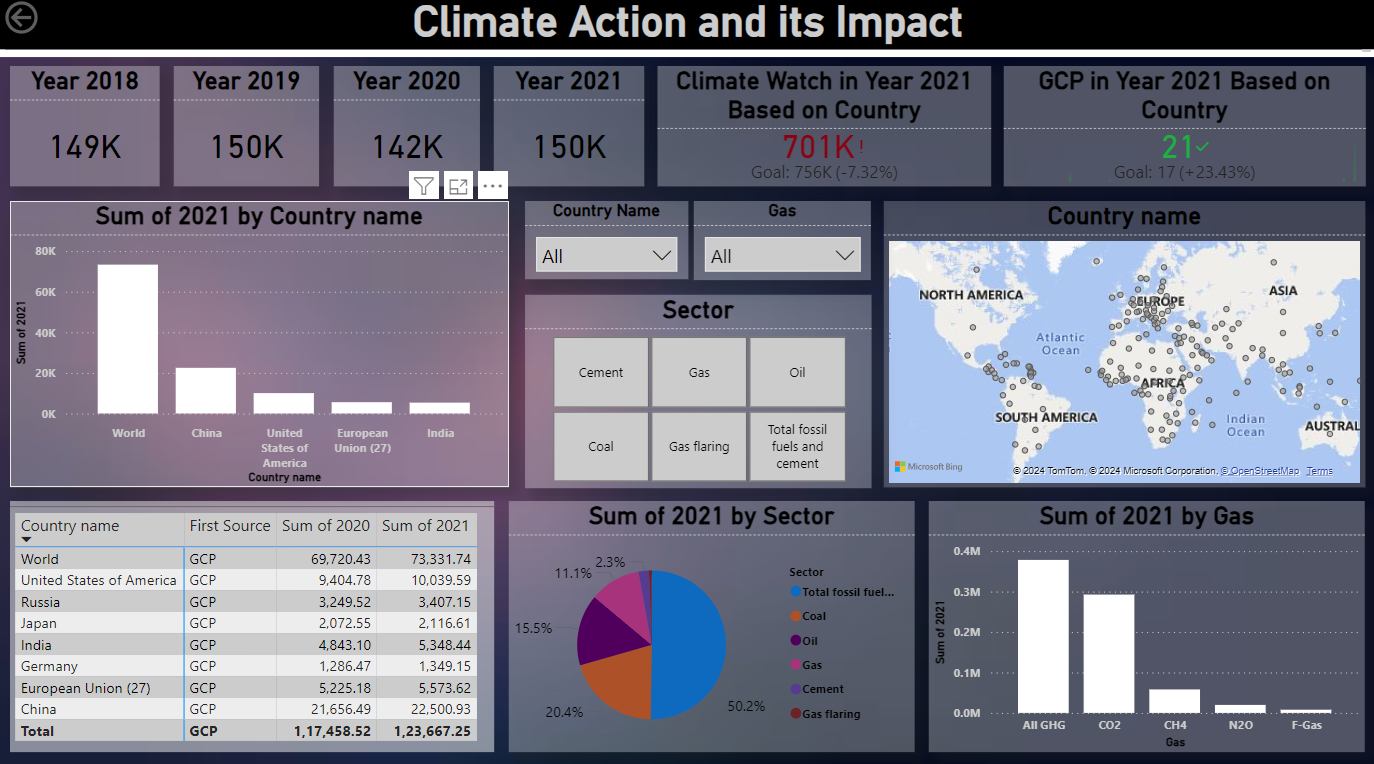

The dashboard page shown, as its layout file describes it:
{"tool":"powerbi","page":{"name":"Page 1","canvas":[1280,720],"ordinal":0},"visuals":[{"type":"card","title":"Year 2018","fields":{"Values":["Sum(GCP.2018)"]},"box":[9.4,65.5,139.3,112.2],"z":0},{"type":"card","title":"Year 2019","fields":{"Values":["Sum(GCP.2019)"]},"box":[162.1,65.5,135.1,112.2],"z":1000},{"type":"card","title":"Year 2020","fields":{"Values":["Sum(GCP.2020)"]},"box":[310.7,65.5,136.1,112.2],"z":2000},{"type":"card","title":"Year 2021","fields":{"Values":["Sum(GCP.2021)"]},"box":[459.4,65.5,140.3,112.2],"z":3000},{"type":"map","fields":{"Category":["GCP.Country name"]},"box":[822.1,191.2,447.9,266.1],"z":4000},{"type":"slicer","title":"Country Name","fields":{"Values":["GCP.Country name"]},"box":[488.5,190.2,151.7,72.7],"z":5000},{"type":"slicer","title":"Sector","fields":{"Values":["GCP.Sector"]},"box":[488.5,277.5,322.2,179.8],"z":6000},{"type":"textbox","title":"Climate  Action and its Impact","box":[0,0,1280.2,57],"z":7000},{"type":"pieChart","fields":{"Category":["GCP.Sector"],"Y":["Sum(GCP.2021)"]},"box":[472.9,469.7,377.3,233.8],"z":8000},{"type":"pivotTable","fields":{"Rows":["GCP.Country name"],"Values":["Min(GCP.Source)","Sum(GCP.2020)","Sum(GCP.2021)"]},"box":[9.4,469.7,450,233.8],"z":9000},{"type":"actionButton","box":[0,0,100,40],"z":10000},{"type":"columnChart","fields":{"Category":["climate watch.Gas"],"Y":["Sum(climate watch.2021)"]},"box":[864,469.8,405.8,233.7],"z":11000},{"type":"columnChart","fields":{"Category":["GCP.Country name"],"Y":["Sum(GCP.2021)"]},"box":[9.3,190.7,464,266.3],"z":12000},{"type":"kpi","title":"Climate Watch in Year 2021 Based on Country","fields":{"Indicator":["Sum(climate watch.2011)"],"TrendLine":["GCP.Country name"],"Goal":["Sum(climate watch.2021)"]},"box":[612.1,65.5,310.7,112.2],"z":13000},{"type":"kpi","title":"GCP in Year 2021 Based on Country","fields":{"Indicator":["Sum(GCP.2011)"],"TrendLine":["GCP.Country name"],"Goal":["Sum(GCP.2021)"]},"box":[933.3,65.5,336.7,112.2],"z":14000},{"type":"slicer","title":"Gas","fields":{"Values":["climate watch.Gas"]},"box":[645.4,190.7,165.1,73.3],"z":15000}]}

Visuals, with their boxes on the page's 1280x720 design canvas (x1, y1, x2, y2). These are canvas units, not pixel positions in the 1374x764 screenshot, which may show the page scaled, cropped or inside an application window:
"Year 2018" card: [9,66,149,178]
"Year 2019" card: [162,66,297,178]
"Year 2020" card: [311,66,447,178]
"Year 2021" card: [459,66,600,178]
map - GCP.Country name: [822,191,1270,457]
"Country Name" slicer: [488,190,640,263]
"Sector" slicer: [488,278,811,457]
"Climate  Action and its Impact" textbox: [0,0,1280,57]
pieChart - GCP.Sector x Sum(GCP.2021): [473,470,850,704]
pivotTable - GCP.Country name x Min(GCP.Source): [9,470,459,704]
actionButton: [0,0,100,40]
columnChart - climate watch.Gas x Sum(climate watch.2021): [864,470,1270,704]
columnChart - GCP.Country name x Sum(GCP.2021): [9,191,473,457]
"Climate Watch in Year 2021 Based on Country" kpi: [612,66,923,178]
"GCP in Year 2021 Based on Country" kpi: [933,66,1270,178]
"Gas" slicer: [645,191,810,264]
